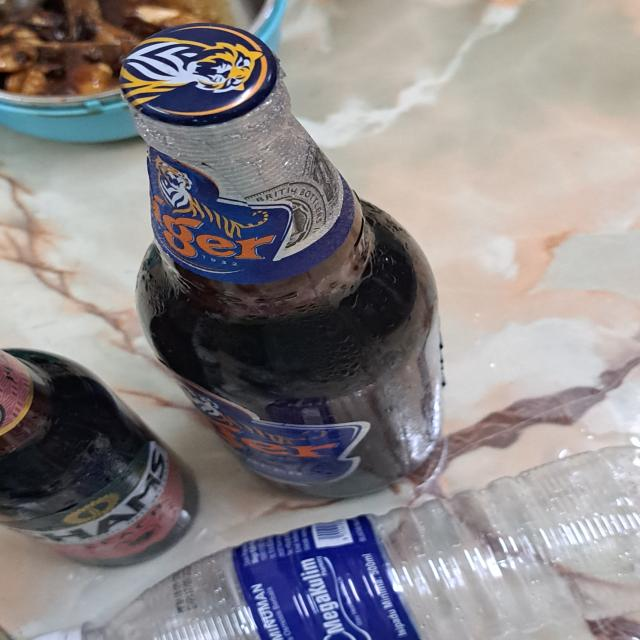glass bottle: (114, 26, 448, 497), (0, 343, 198, 568)
plastic bottle: (76, 446, 640, 640)
